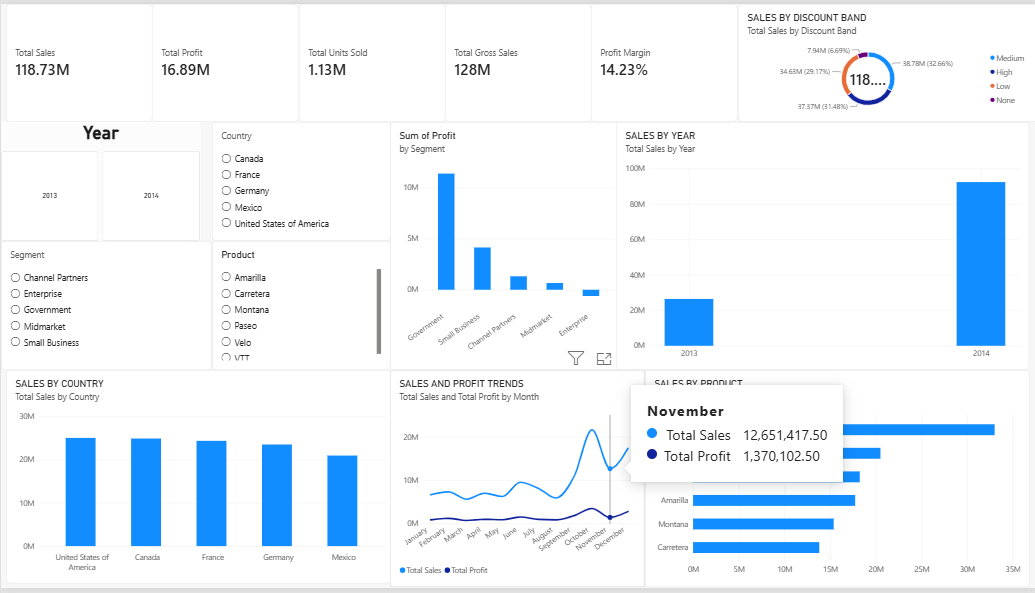

Layout of this report page (visuals, bound fields, positions):
{"tool":"powerbi","page":{"name":"Dashboard","canvas":[1920,1080],"ordinal":0},"visuals":[{"type":"cardVisual","fields":{"Data":["Table2.Total Sales"]},"box":[9.2,0,271,218.2],"z":0},{"type":"cardVisual","fields":{"Data":["Table2.Total Profit"]},"box":[280.2,0,271,218],"z":1},{"type":"cardVisual","fields":{"Data":["Table2.Total Units Sold"]},"box":[551.2,0,271,218],"z":2},{"type":"cardVisual","fields":{"Data":["Table2.Total Gross Sales"]},"box":[822.2,0,271,218],"z":3},{"type":"cardVisual","fields":{"Data":["Table2.Profit Margin"]},"box":[1093.2,0,271,218],"z":4},{"type":"clusteredColumnChart","title":"SALES BY COUNTRY","fields":{"Category":["Table2.Country"],"Y":["Table2.Total Sales"]},"box":[9.2,677.5,721.1,395],"z":5},{"type":"clusteredBarChart","title":"SALES BY PRODUCT","fields":{"Category":["Table2.Product"],"Y":["Table2.Total Sales"]},"box":[1192,677.5,712,401.9],"z":6},{"type":"clusteredColumnChart","fields":{"Category":["Table2.Segment"],"Y":["Sum(Table2.Profit)"]},"box":[721.1,218.2,434.1,459.3],"z":7},{"type":"lineChart","title":"SALES AND PROFIT TRENDS","fields":{"Category":["Table2.Date.Variation.Date Hierarchy.Month"],"Y":["Table2.Total Sales","Table2.Total Profit"]},"box":[721.1,677.5,470.8,401.9],"z":8},{"type":"donutChart","title":"SALES BY DISCOUNT BAND","fields":{"Category":["Table2.Discount Band"],"Y":["Table2.Total Sales"]},"box":[1364.2,0,555.8,218.2],"z":9},{"type":"clusteredColumnChart","title":"SALES BY YEAR","fields":{"Category":["Table2.Date.Variation.Date Hierarchy.Year"],"Y":["Table2.Total Sales"]},"box":[1139.1,218.2,764.8,459.3],"z":10},{"type":"advancedSlicerVisual","fields":{"Values":["Table2.Year"]},"box":[0,218.2,369.8,220.5],"z":12},{"type":"listSlicer","fields":{"Values":["Table2.Country"]},"box":[390.4,218.2,330.7,220.5],"z":13},{"type":"listSlicer","fields":{"Values":["Table2.Product"]},"box":[390.4,438.7,330.7,238.9],"z":14},{"type":"listSlicer","fields":{"Values":["Table2.Segment"]},"box":[0,438.7,390.4,238.9],"z":15}]}

Visuals, with their boxes in screenshot pixels (x1, y1, x2, y2), scaled from the page's 1920x1080 canvas onto the 1035x593 screenshot:
cardVisual - Table2.Total Sales: <box>5,0,151,120</box>
cardVisual - Table2.Total Profit: <box>151,0,297,120</box>
cardVisual - Table2.Total Units Sold: <box>297,0,443,120</box>
cardVisual - Table2.Total Gross Sales: <box>443,0,589,120</box>
cardVisual - Table2.Profit Margin: <box>589,0,735,120</box>
"SALES BY COUNTRY" clusteredColumnChart: <box>5,372,394,589</box>
"SALES BY PRODUCT" clusteredBarChart: <box>643,372,1026,592</box>
clusteredColumnChart - Table2.Segment x Sum(Table2.Profit): <box>389,120,623,372</box>
"SALES AND PROFIT TRENDS" lineChart: <box>389,372,643,592</box>
"SALES BY DISCOUNT BAND" donutChart: <box>735,0,1034,120</box>
"SALES BY YEAR" clusteredColumnChart: <box>614,120,1026,372</box>
advancedSlicerVisual - Table2.Year: <box>0,120,199,241</box>
listSlicer - Table2.Country: <box>210,120,389,241</box>
listSlicer - Table2.Product: <box>210,241,389,372</box>
listSlicer - Table2.Segment: <box>0,241,210,372</box>
